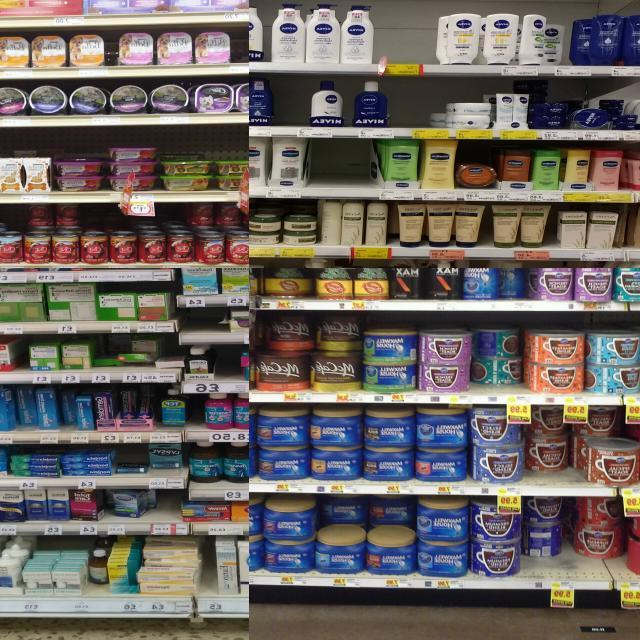Imprecise: (318, 492, 406, 580), (580, 408, 638, 490), (524, 407, 582, 483), (260, 304, 310, 387), (578, 497, 626, 579), (519, 492, 559, 578), (474, 321, 526, 387), (23, 204, 76, 262), (190, 204, 244, 258), (98, 484, 160, 520), (542, 12, 580, 66), (140, 441, 190, 476), (492, 256, 528, 302), (116, 386, 154, 427), (80, 544, 108, 596), (121, 338, 157, 368), (90, 355, 124, 368), (158, 354, 185, 368)
